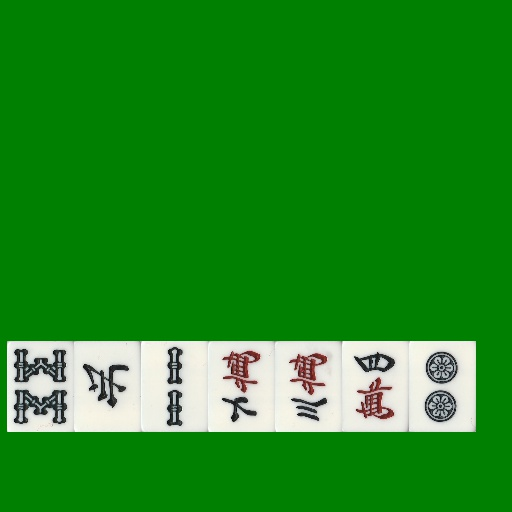2p: (409, 341, 476, 432)
2s: (141, 341, 208, 432)
3m: (275, 341, 342, 432)
4m: (342, 341, 409, 432)
7m: (208, 341, 275, 432)
8s: (7, 341, 74, 432)
north: (74, 341, 141, 432)
